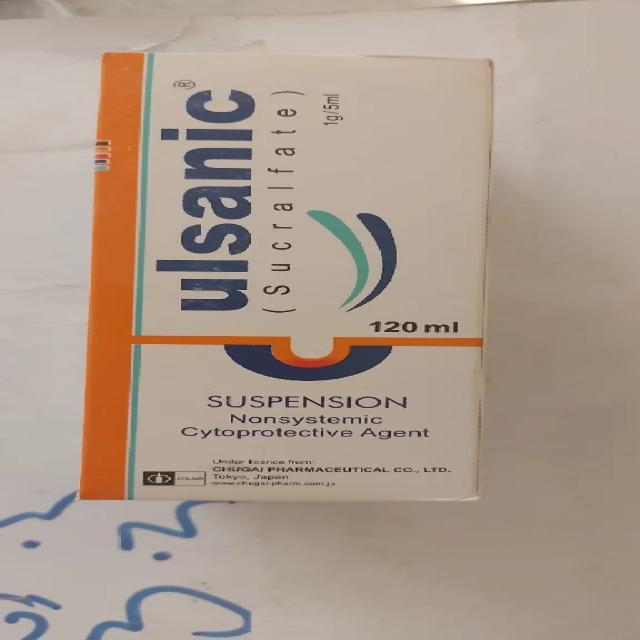drug-name: (155, 87, 259, 314)
